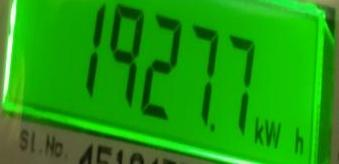.: (251, 117, 308, 158)
0: (208, 122, 217, 133)
2: (84, 0, 104, 98)
3: (142, 15, 184, 121)
8: (189, 23, 222, 130), (226, 32, 256, 134)
:: (109, 2, 143, 108)
